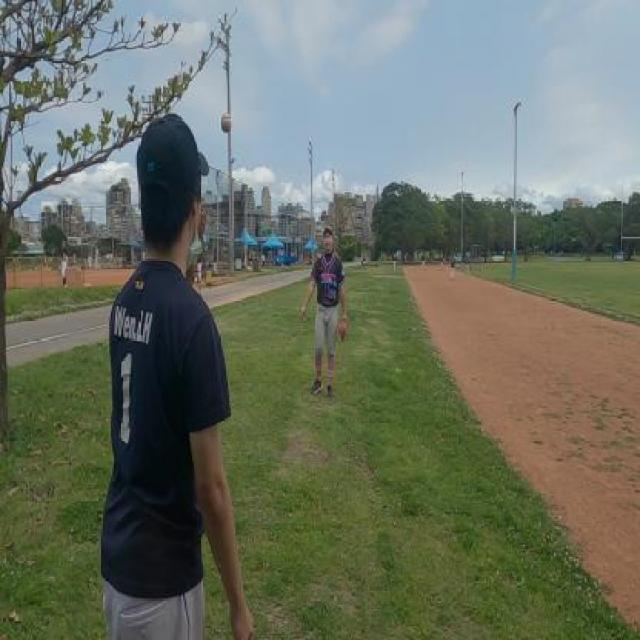baseball: (220, 112, 232, 133)
